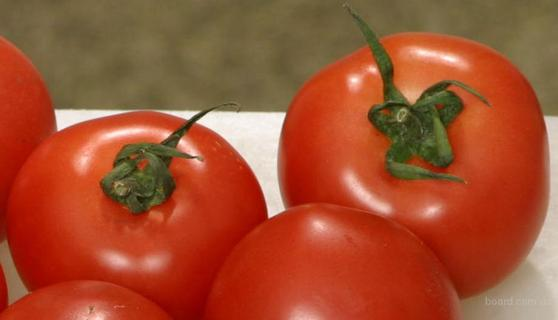tomato: (280, 35, 557, 308), (2, 107, 275, 314), (224, 204, 465, 320)
